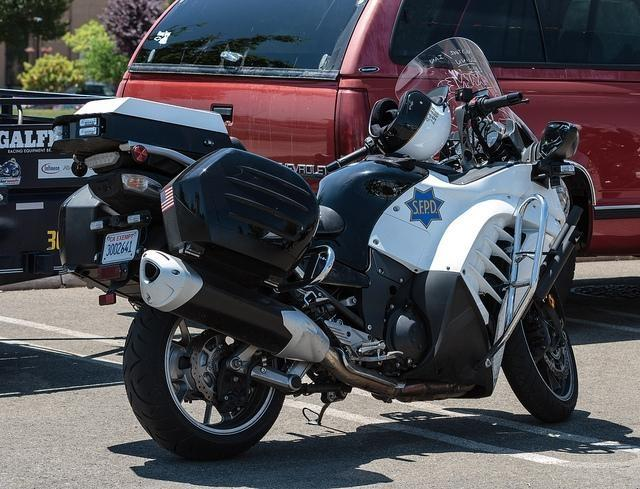car: (116, 0, 640, 260), (58, 104, 86, 110)
motorcycle: (123, 40, 597, 454)
